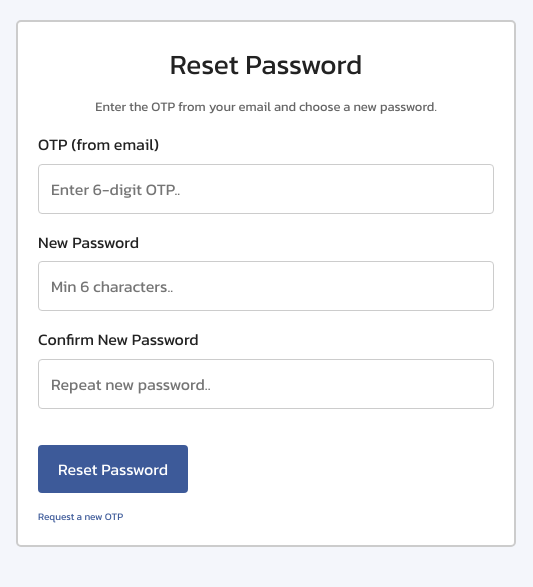
Test case: ResetPassword — validation › shows error when password is too short
Step 1. Type "123456" into the field with placeholder "Enter 6-digit OTP.." → point(266, 188), box [38,164,494,214]
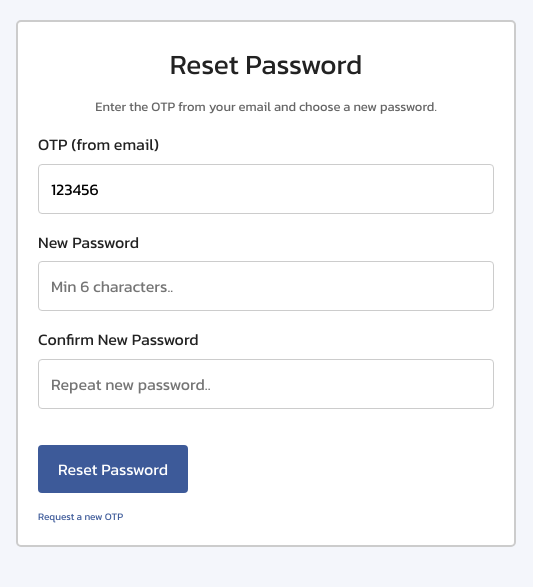
Step 2. Type "123" into the password field with placeholder "Min 6 characters.." → point(266, 286), box [38,261,494,311]
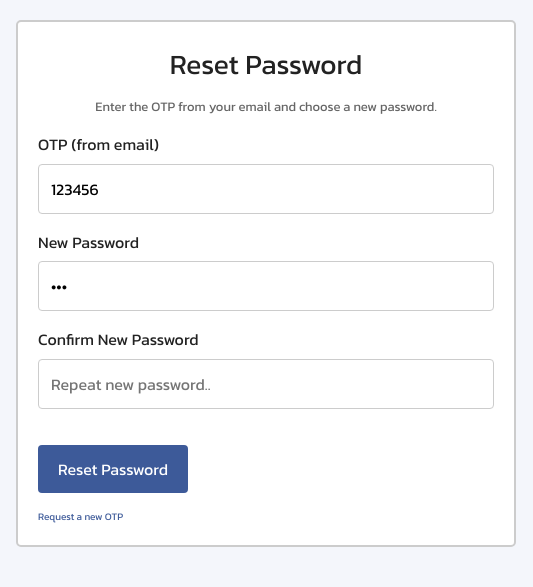
Step 3. Click the button showing "Reset Password" → point(113, 469), box [38,445,188,493]
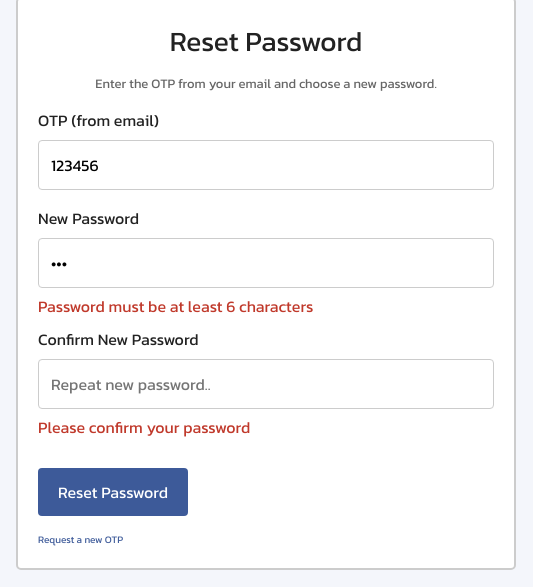
Now the text "Password must be at least 6 characters" is shown, box [38,294,314,318]
